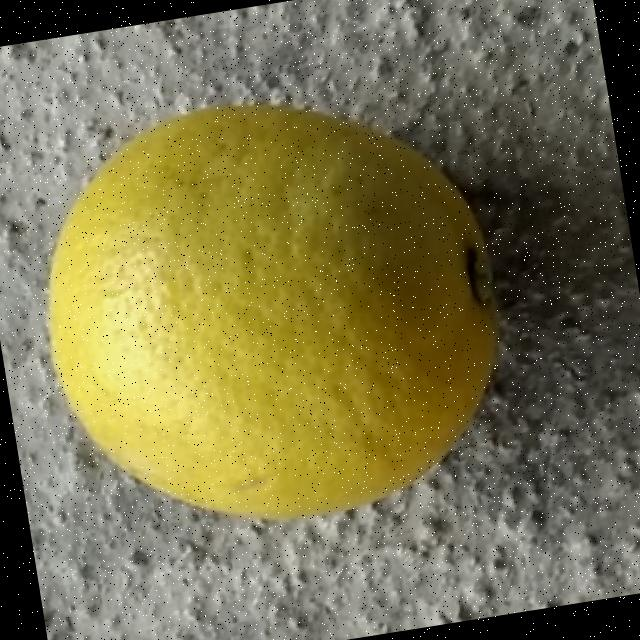Lemon: (14, 67, 532, 558)
